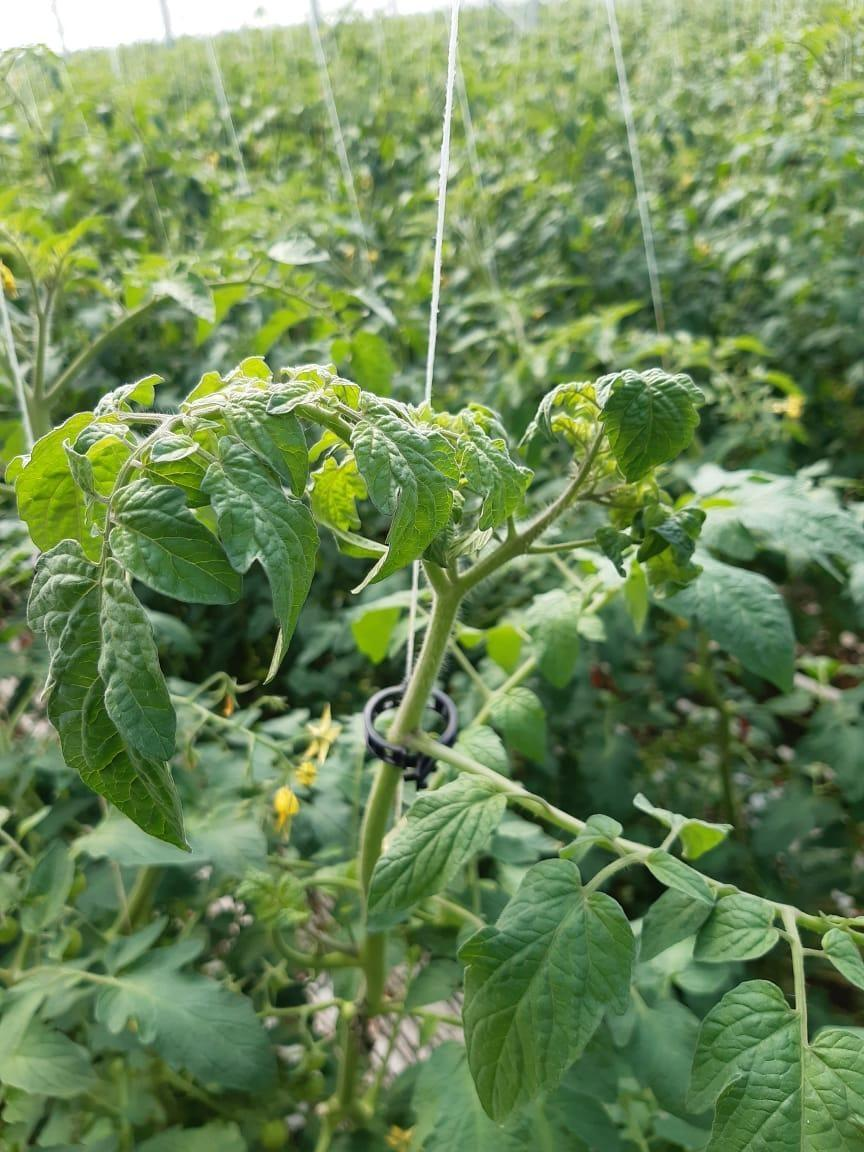Rugose leaf: (457, 412, 533, 530)
